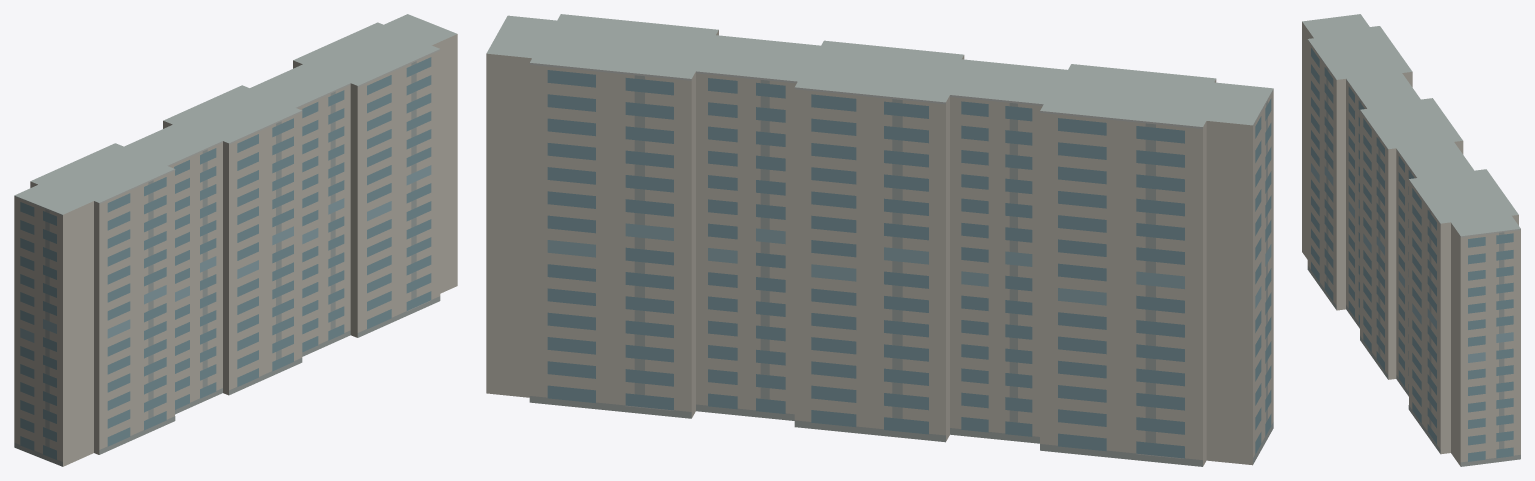
File: residential-4d160630-470a-432f-a581-661ae7ce1848.glb
The picture shows the model from 3 angles, left to right: view 1: azimuth 30°, elevation 25°; view 2: azimuth 150°, elevation 25°; view 3: azimuth 270°, elevation 25°; orthographic projection. The views are drawn at different scales.
Parts seen in each view (by area): view 1: residential-4d160630-470a-432f-a581-661ae7ce1848.tmp; view 2: residential-4d160630-470a-432f-a581-661ae7ce1848.tmp; view 3: residential-4d160630-470a-432f-a581-661ae7ce1848.tmp.
Boxes of the visible parts, <box> form: residential-4d160630-470a-432f-a581-661ae7ce1848.tmp: <box>14,14,457,466</box>; residential-4d160630-470a-432f-a581-661ae7ce1848.tmp: <box>486,14,1273,466</box>; residential-4d160630-470a-432f-a581-661ae7ce1848.tmp: <box>1302,14,1520,466</box>.
Size of the model in its own units: 88.31 by 42.7 by 36.74.
